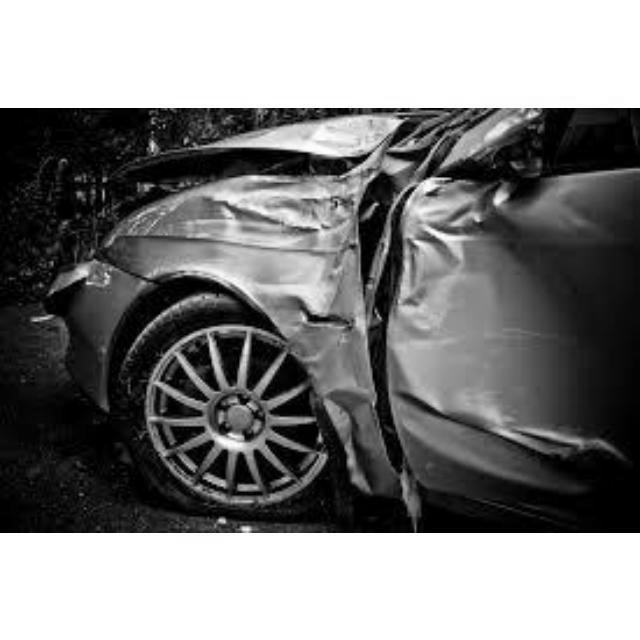Sidemirror-Damage: (439, 108, 549, 189)
bonnet-dent: (126, 118, 414, 193)
doorouter-dent: (394, 191, 615, 491)
fender-dent: (131, 187, 366, 310)
